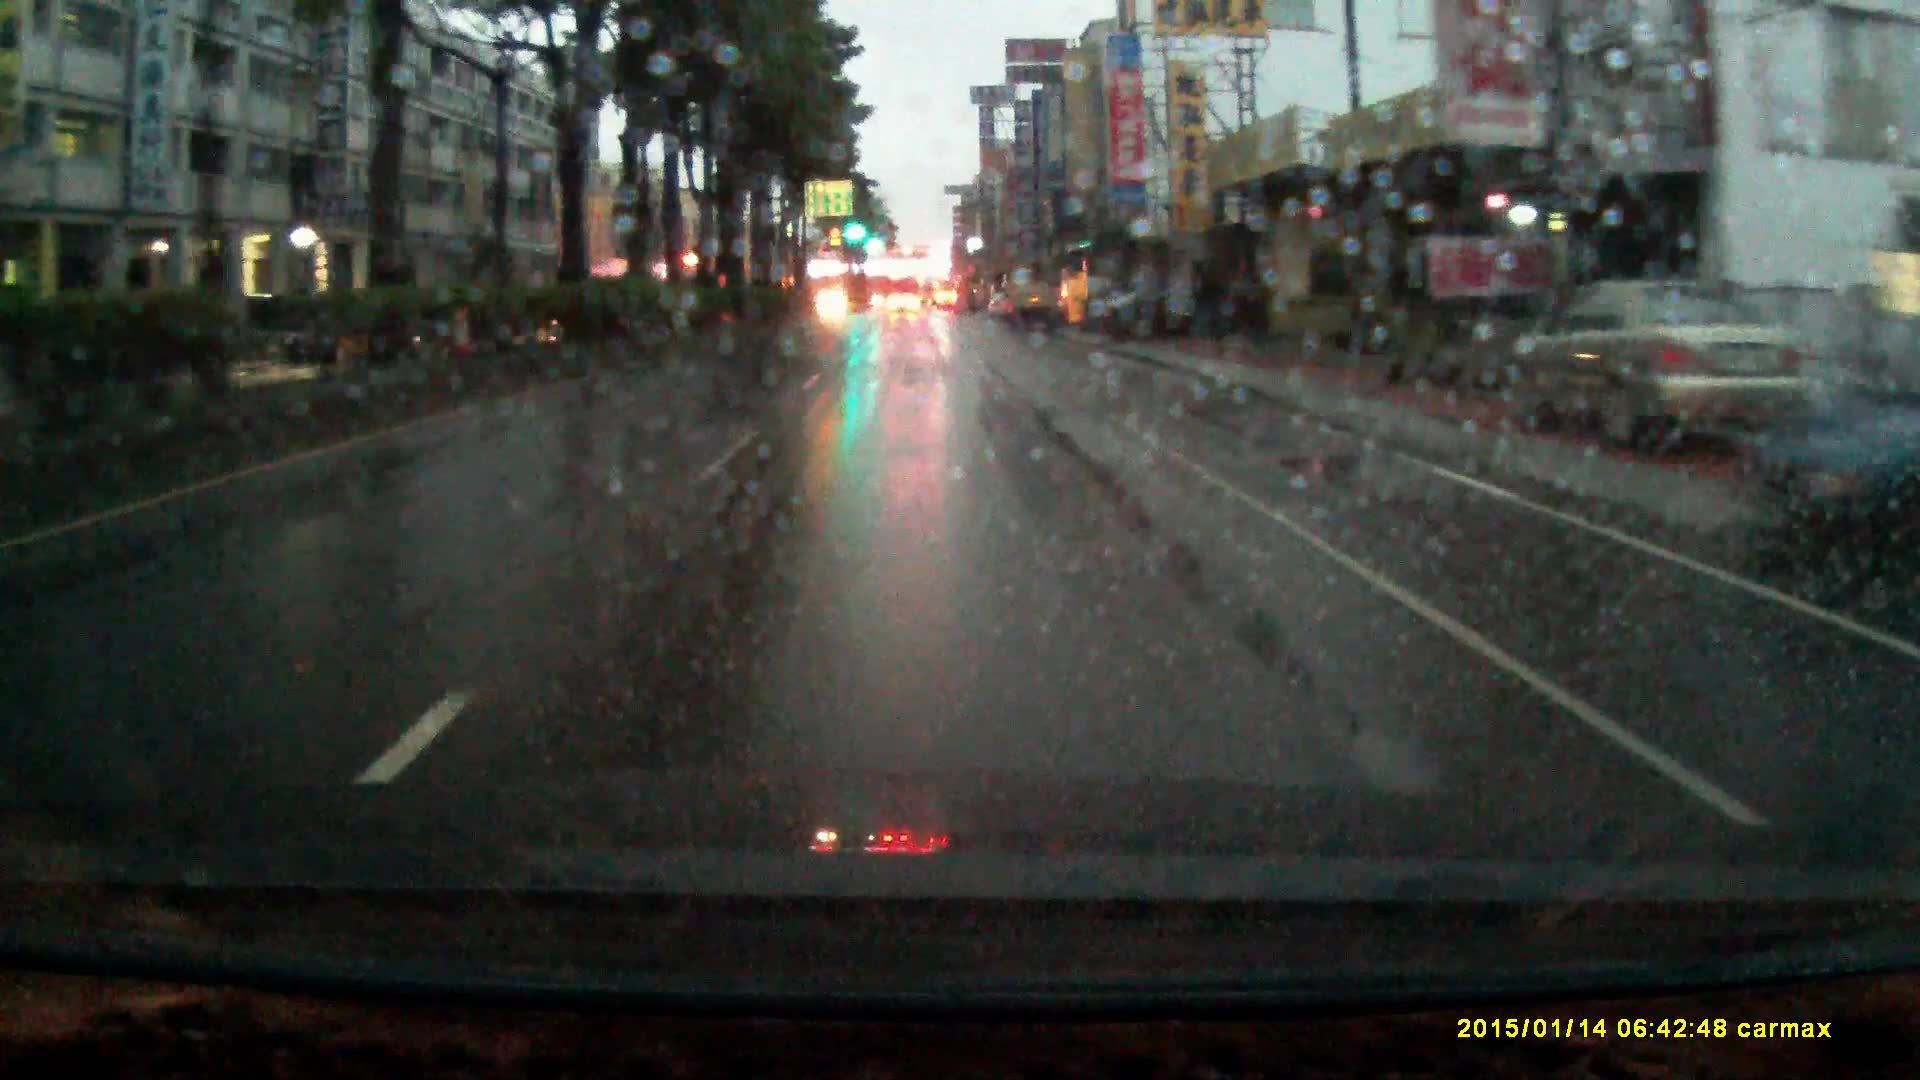vehicle: (1538, 278, 1815, 458), (1772, 386, 1920, 560), (1084, 280, 1263, 338), (1005, 281, 1058, 335), (886, 291, 920, 315)
